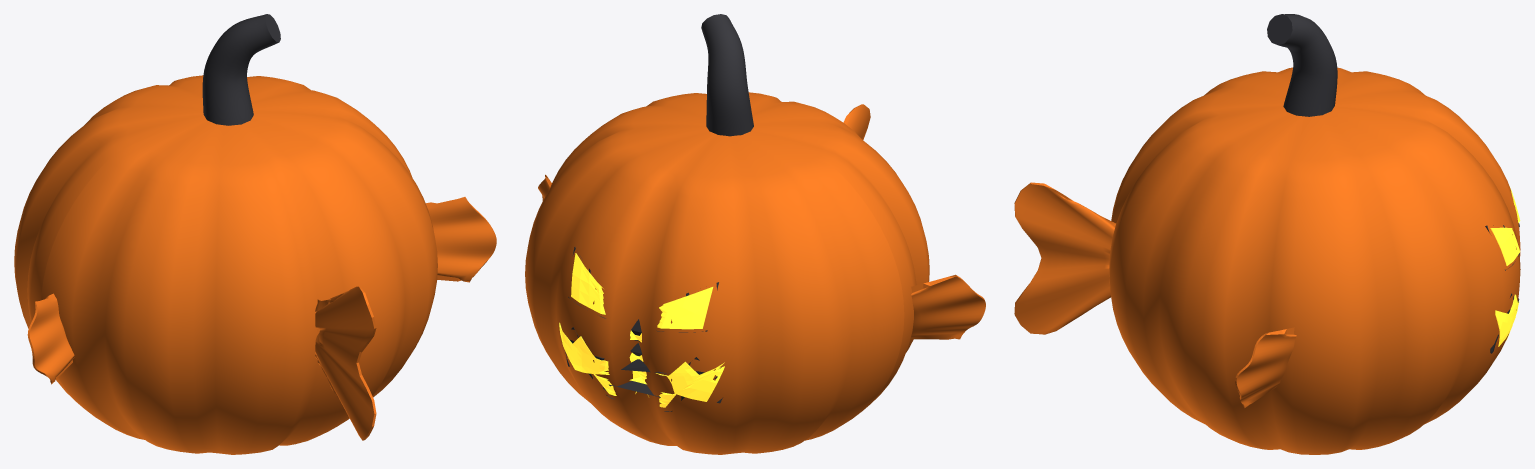
Rendered from FISH_PUMPKINPUFFER.glb.
3 renders of one model, left to right at view 1: azimuth 30°, elevation 25°; view 2: azimuth 150°, elevation 25°; view 3: azimuth 270°, elevation 25°, orthographic. The views are drawn at different scales.
Parts seen in each view (by area): view 1: Body, Fin_Pectoral (×2), Fin_Tail, Stem; view 2: Body, Glow_Face (×3), Stem, Fin_Pectoral, Face_Carve, Fin_Tail; view 3: Body, Fin_Tail, Stem, Fin_Pectoral, Glow_Face (×2).
Boxes of the visible parts, x1,y1,x2,y2 form: Body: (14, 75, 437, 454); Fin_Pectoral (×2): (27, 197, 496, 384); Fin_Tail: (315, 286, 376, 440); Stem: (202, 14, 280, 125); Body: (525, 92, 929, 454); Glow_Face (×3): (559, 253, 724, 407); Stem: (701, 14, 753, 136); Fin_Pectoral: (910, 274, 985, 339); Face_Carve: (565, 327, 722, 411); Fin_Tail: (843, 104, 870, 139); Body: (1109, 67, 1520, 454); Fin_Tail: (1014, 182, 1115, 334); Stem: (1267, 14, 1337, 116); Fin_Pectoral: (1235, 327, 1296, 407); Glow_Face (×2): (1490, 227, 1520, 346).
Size of the model in its own units: 1.55 by 1.32 by 1.44.
